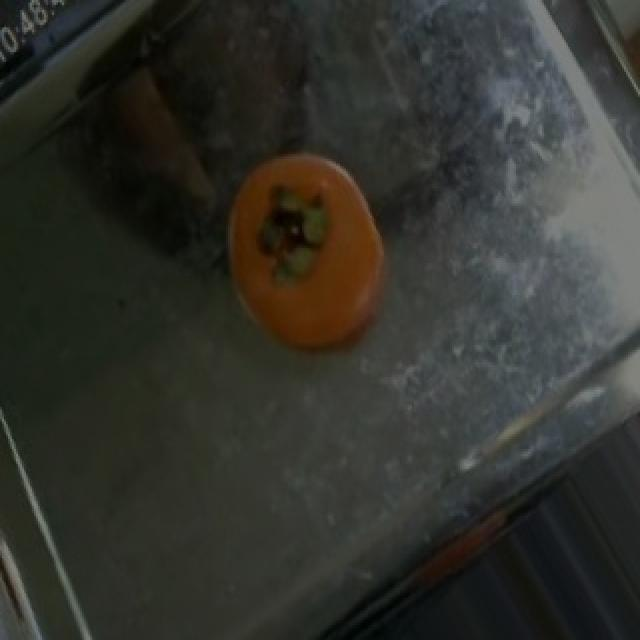Fruit: (198, 127, 414, 377), (588, 0, 640, 144)
